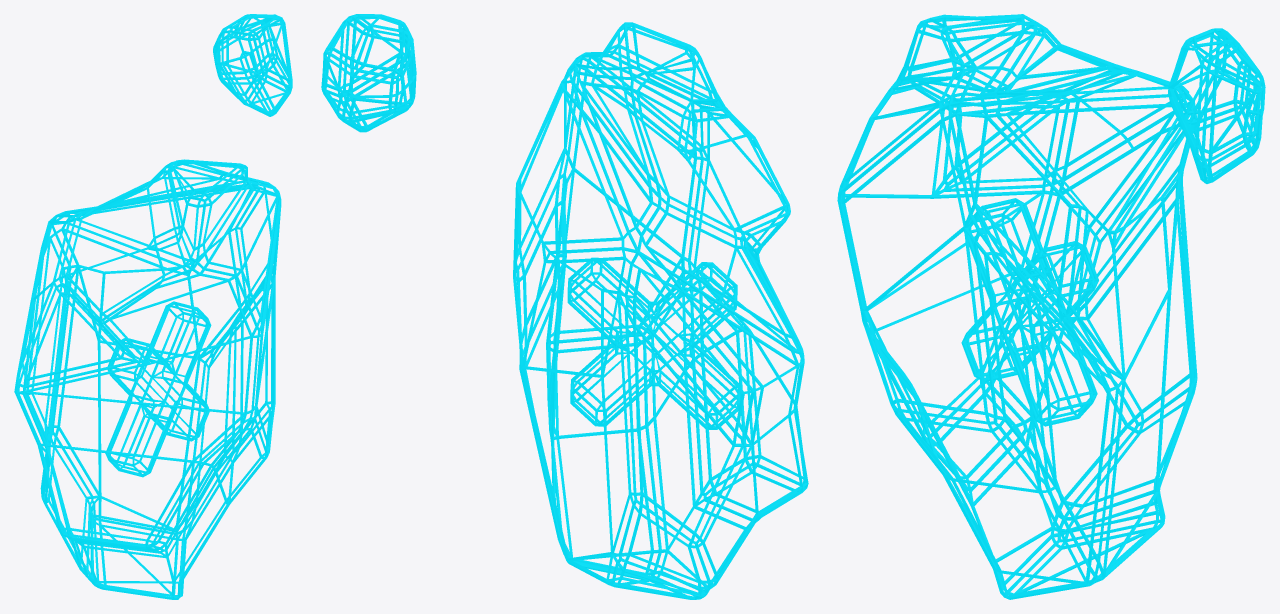
File: ARfinal2.glb
3 renders of one model, left to right at view 1: azimuth 30°, elevation 25°; view 2: azimuth 150°, elevation 25°; view 3: azimuth 270°, elevation 25°, orthographic. The views are drawn at different scales.
Visible parts, largest first — view 1: Plane, Plane.001, kleiner stein; view 2: Plane, Plane.001, kleiner stein; view 3: Plane, Plane.001, kleiner stein.
Boxes of the visible parts, x1,y1,x2,y2 form: Plane: (14,159,281,599); Plane.001: (105,301,211,477); kleiner stein: (213,14,292,116); Plane: (513,22,808,599); Plane.001: (567,257,740,429); kleiner stein: (321,14,416,132); Plane: (837,14,1197,599); Plane.001: (961,198,1098,426); kleiner stein: (1168,28,1265,183).
Size of the model in its own units: 1.11 by 1.56 by 0.9154.
